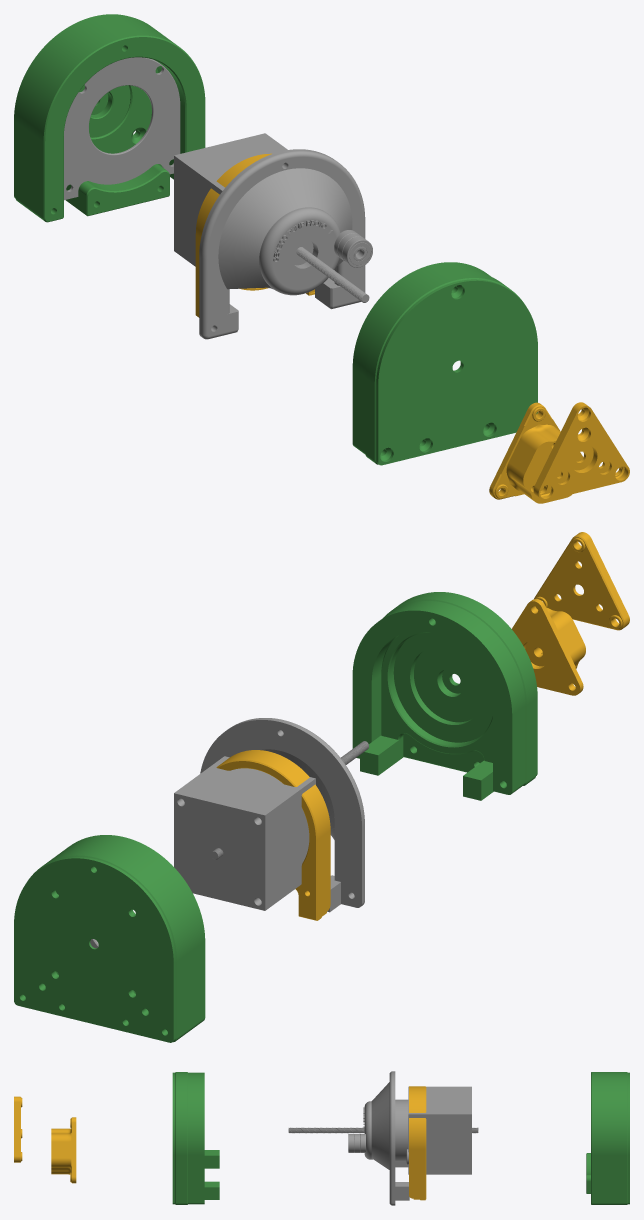
Rendered from peristalticpump-nemaxx-parametric-v85.glb.
The picture shows the model from 3 angles, top to bottom: view 1: azimuth 30°, elevation 25°; view 2: azimuth 150°, elevation 25°; view 3: azimuth 270°, elevation 25°; orthographic projection. The views are drawn at different scales.
Parts seen in each view (by area): view 1: =>[0:1:1:4], skf_bearing_w_625-2rs1_2 v1:3; view 2: =>[0:1:1:4]; view 3: =>[0:1:1:4].
Boxes of the visible parts, left/top/right/bottom form: =>[0:1:1:4]: left=14, top=14, right=629, bottom=503; skf_bearing_w_625-2rs1_2 v1:3: left=342, top=236, right=372, bottom=267; =>[0:1:1:4]: left=14, top=532, right=629, bottom=1042; =>[0:1:1:4]: left=14, top=1071, right=629, bottom=1205.
Size of the model in its own units: 0.0998 by 0.0978 by 0.52.
